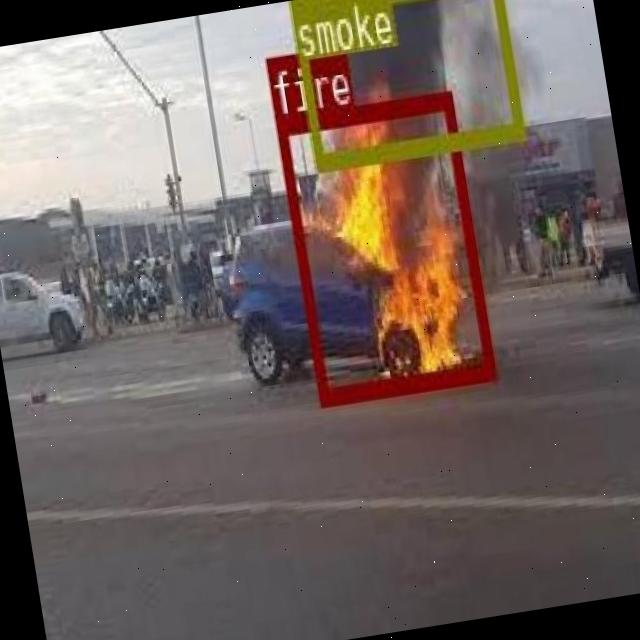fire: (274, 88, 494, 403)
smoke: (285, 0, 522, 170)
